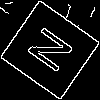N: (25, 25, 83, 80)
